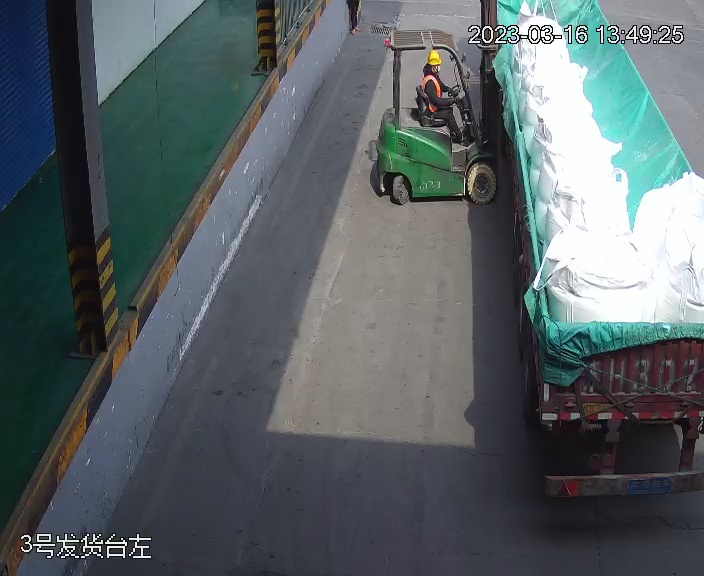head: (419, 50, 447, 91)
helmet: (426, 49, 443, 66)
people: (419, 51, 467, 147)
truck: (479, 1, 704, 498)
